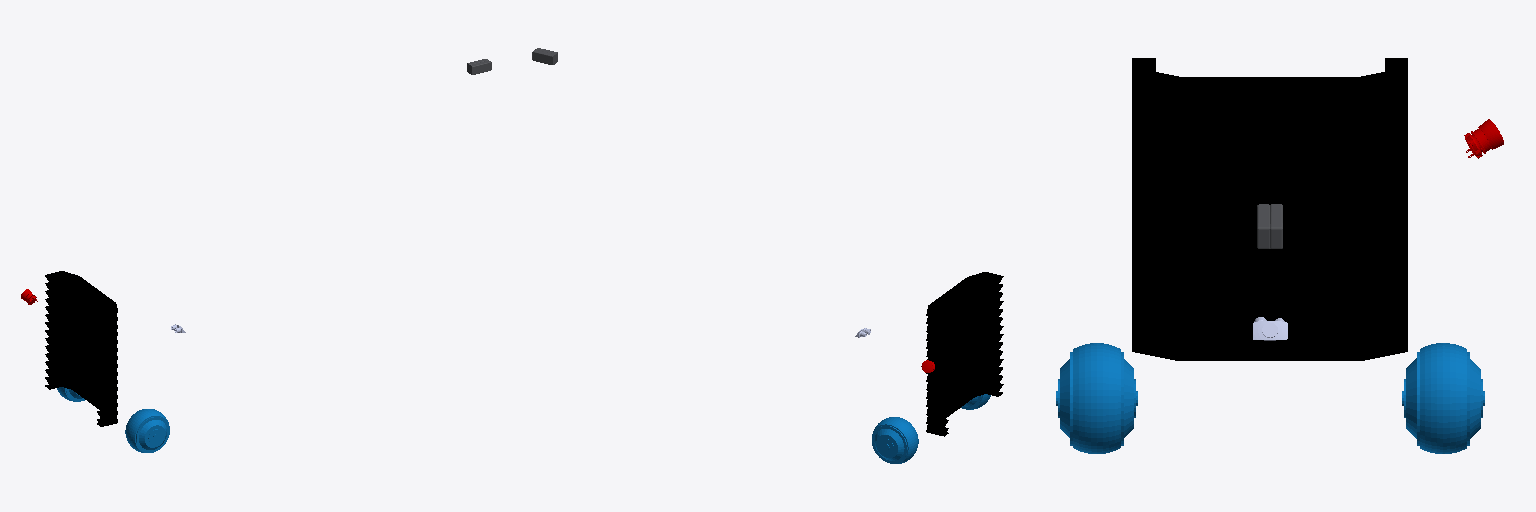
robot.urdf — fetch:
<robot name="fetch">
  <link name="base_link">
    <inertial>
      <origin rpy="0 0 0" xyz="-0.0036 0.0 0.0014" />
      <mass value="70.1294" />
      <inertia ixx="1.225" ixy="0.0099" ixz="0.0062" iyy="1.2853" iyz="-0.0034" izz="0.987" />
    </inertial>
    <visual>
      <origin rpy="0 0 0" xyz="0 0 0" />
      <geometry>
        <mesh filename="../meshes/base_link.dae" />
      </geometry>
      <material name="">
        <color rgba="0.356 0.361 0.376 1" />
      </material>
    </visual>
    <collision>
      <origin rpy="0 0 0" xyz="0 0 0" />
      <geometry>
        <mesh filename="../meshes/base_link_collision.obj" />
      </geometry>
    </collision>
  </link>
  <link name="r_wheel_link">
    <inertial>
      <origin rpy="0 0 0" xyz="0 0 0" />
      <mass value="4.3542" />
      <inertia ixx="0.0045" ixy="0" ixz="0" iyy="0.005" iyz="0" izz="0.0045" />
    </inertial>
    <visual>
      <origin rpy="0 0 0" xyz="0 0 0" />
      <geometry>
        <mesh filename="../meshes/r_wheel_link.obj" />
      </geometry>
      <material name="">
        <color rgba="0.086 0.506 0.767 1" />
      </material>
    </visual>
    <collision>
      <origin rpy="0 0 0" xyz="0 0 0" />
      <geometry>
        <mesh filename="../meshes/r_wheel_link_collision.obj" />
      </geometry>
    </collision>
  </link>
  <joint name="r_wheel_joint" type="continuous">
    <origin rpy="-6.123E-17 0 0" xyz="0.0012914 -0.18738 0.055325" />
    <parent link="base_link" />
    <child link="r_wheel_link" />
    <axis xyz="0 1 0" />
  <limit effort="8.85" velocity="17.4" /></joint>
  <link name="l_wheel_link">
    <inertial>
      <origin rpy="0 0 0" xyz="0 0 0" />
      <mass value="4.3542" />
      <inertia ixx="0.0045" ixy="0" ixz="0" iyy="0.005" iyz="0" izz="0.0045" />
    </inertial>
    <visual>
      <origin rpy="0 0 0" xyz="0 0 0" />
      <geometry>
        <mesh filename="../meshes/l_wheel_link.obj" />
      </geometry>
      <material name="">
        <color rgba="0.086 0.506 0.767 1" />
      </material>
    </visual>
    <collision>
      <origin rpy="0 0 0" xyz="0 0 0" />
      <geometry>
        <mesh filename="../meshes/l_wheel_link_collision.obj" />
      </geometry>
    </collision>
  </link>
  <joint name="l_wheel_joint" type="continuous">
    <origin rpy="-6.123E-17 0 0" xyz="0.0012914 0.18738 0.055325" />
    <parent link="base_link" />
    <child link="l_wheel_link" />
    <axis xyz="0 1 0" />
  <limit effort="8.85" velocity="17.4" /></joint>
  <link name="torso_lift_link">
    <inertial>
      <origin rpy="0 0 0" xyz="-0.0013 -0.0009 0.2935" />
      <mass value="10.7796" />
      <inertia ixx="0.3354" ixy="0.0" ixz="-0.0162" iyy="0.3354" iyz="-0.0006" izz="0.0954" />
    </inertial>
    <visual>
      <origin rpy="0 0 0" xyz="0 0 0" />
      <geometry>
        <mesh filename="../meshes/torso_lift_link.dae" />
      </geometry>
      <material name="">
        <color rgba="1 1 1 1" />
      </material>
    </visual>
    <collision>
      <origin rpy="0 0 0" xyz="0 0 0" />
      <geometry>
        <mesh filename="../meshes/torso_lift_link_collision.obj" />
      </geometry>
    </collision>
  </link>
  <joint name="torso_lift_joint" type="prismatic">
    <origin rpy="-6.123E-17 0 0" xyz="-0.086875 0 0.37743" />
    <parent link="base_link" />
    <child link="torso_lift_link" />
    <axis xyz="0 0 1" />
    <limit effort="450.0" lower="0" upper="0.38615" velocity="0.1" />
  <dynamics damping="0" /></joint>
  <link name="head_pan_link">
    <inertial>
      <origin rpy="0 0 0" xyz="0.0321 0.0161 0.0390" />
      <mass value="2.2556" />
      <inertia ixx="0.0129" ixy="0.0002" ixz="0.0007" iyy="0.0095" iyz="-0.0" izz="0.0184" />
    </inertial>
    <visual>
      <origin rpy="0 0 0" xyz="0 0 0" />
      <geometry>
        <mesh filename="../meshes/head_pan_link.dae" />
      </geometry>
      <material name="">
        <color rgba="0.356 0.361 0.376 1" />
      </material>
    </visual>
    <collision>
      <origin rpy="0 0 0" xyz="0 0 0" />
      <geometry>
        <mesh filename="../meshes/head_pan_link_collision.obj" />
      </geometry>
    </collision>
  </link>
  <joint name="head_pan_joint" type="revolute">
    <origin rpy="0 0 0" xyz="0.053125 0 0.603001417713939" />
    <parent link="torso_lift_link" />
    <child link="head_pan_link" />
    <axis xyz="0 0 1" />
  <limit effort="0.32" lower="-1.57" upper="1.57" velocity="1.57" /></joint>
  <link name="head_tilt_link">
    <inertial>
      <origin rpy="0 0 0" xyz="0.0081 0.0025 0.0113" />
      <mass value="0.9087" />
      <inertia ixx="0.0061" ixy="-0.0" ixz="0.0002" iyy="0.0014" iyz="-0.0001" izz="0.0061" />
    </inertial>
    <visual>
      <origin rpy="0 0 0" xyz="0 0 0" />
      <geometry>
        <mesh filename="../meshes/head_tilt_link.dae" />
      </geometry>
      <material name="">
        <color rgba="0.086 0.506 0.767 1" />
      </material>
    </visual>
    <collision>
      <origin rpy="0 0 0" xyz="0 0 0" />
      <geometry>
        <mesh filename="../meshes/head_tilt_link_collision.obj" />
      </geometry>
    </collision>
  </link>
  <joint name="head_tilt_joint" type="revolute">
    <origin rpy="0 0 0" xyz="0.14253 0 0.057999" />
    <parent link="head_pan_link" />
    <child link="head_tilt_link" />
    <axis xyz="0 1 0" />
    <limit effort="0.68" lower="-0.76" upper="1.45" velocity="1.57" />
  </joint>
  <link name="shoulder_pan_link">
    <inertial>
      <origin rpy="0 0 0" xyz="0.0927 -0.0056 0.0564" />
      <mass value="2.5587" />
      <inertia ixx="0.0043" ixy="-0.0001" ixz="0.001" iyy="0.0087" iyz="-0.0001" izz="0.0087" />
    </inertial>
    <visual>
      <origin rpy="0 0 0" xyz="0 0 0" />
      <geometry>
        <mesh filename="../meshes/shoulder_pan_link.dae" />
      </geometry>
      <material name="">
        <color rgba="1 1 1 1" />
      </material>
    </visual>
    <collision>
      <origin rpy="0 0 0" xyz="0 0 0" />
      <geometry>
        <mesh filename="../meshes/shoulder_pan_link_collision.obj" />
      </geometry>
    </collision>
  </link>
  <joint name="shoulder_pan_joint" type="revolute">
    <origin rpy="0 0 0" xyz="0.119525 0 0.34858" />
    <parent link="torso_lift_link" />
    <child link="shoulder_pan_link" />
    <axis xyz="0 0 1" />
    <dynamics damping="0" />
    <limit effort="33.82" lower="-1.6056" upper="1.6056" velocity="1.256" />
  </joint>
  <link name="shoulder_lift_link">
    <inertial>
      <origin rpy="0 0 0" xyz="0.1432 0.0072 -0.0001" />
      <mass value="2.6615" />
      <inertia ixx="0.0028" ixy="-0.0021" ixz="-0.0" iyy="0.0111" iyz="-0.0" izz="0.0112" />
    </inertial>
    <visual>
      <origin rpy="0 0 0" xyz="0 0 0" />
      <geometry>
        <mesh filename="../meshes/shoulder_lift_link.dae" />
      </geometry>
      <material name="">
        <color rgba="0.086 0.506 0.767 1" />
      </material>
    </visual>
    <collision>
      <origin rpy="0 0 0" xyz="0 0 0" />
      <geometry>
        <mesh filename="../meshes/shoulder_lift_link_collision.obj" />
      </geometry>
    </collision>
  </link>
  <joint name="shoulder_lift_joint" type="revolute">
    <origin rpy="0 0 0" xyz="0.117 0 0.0599999999999999" />
    <parent link="shoulder_pan_link" />
    <child link="shoulder_lift_link" />
    <axis xyz="0 1 0" />
    <dynamics damping="0" />
    <limit effort="131.76" lower="-1.221" upper="1.518" velocity="1.454" />
  </joint>
  <link name="upperarm_roll_link">
    <inertial>
      <origin rpy="0 0 0" xyz="0.1165 0.0014 0.0000" />
      <mass value="2.3311" />
      <inertia ixx="0.0019" ixy="-0.0001" ixz="0.0" iyy="0.0045" iyz="0.0" izz="0.0047" />
    </inertial>
    <visual>
      <origin rpy="0 0 0" xyz="0 0 0" />
      <geometry>
        <mesh filename="../meshes/upperarm_roll_link.dae" />
      </geometry>
      <material name="">
        <color rgba="1 1 1 1" />
      </material>
    </visual>
    <collision>
      <origin rpy="0 0 0" xyz="0 0 0" />
      <geometry>
        <mesh filename="../meshes/upperarm_roll_link_collision.obj" />
      </geometry>
    </collision>
  </link>
  <joint name="upperarm_roll_joint" type="continuous">
    <origin rpy="0 0 0" xyz="0.219 0 0" />
    <parent link="shoulder_lift_link" />
    <child link="upperarm_roll_link" />
    <axis xyz="1 0 0" />
    <dynamics damping="0" />
    <limit effort="76.94" velocity="1.571" />
  </joint>
  <link name="elbow_flex_link">
    <inertial>
      <origin rpy="0 0 0" xyz="0.1279 0.0073 0.0000" />
      <mass value="2.1299" />
      <inertia ixx="0.0024" ixy="-0.0016" ixz="0.0" iyy="0.0082" iyz="-0.0" izz="0.0084" />
    </inertial>
    <visual>
      <origin rpy="0 0 0" xyz="0 0 0" />
      <geometry>
        <mesh filename="../meshes/elbow_flex_link.dae" />
      </geometry>
      <material name="">
        <color rgba="0.086 0.506 0.767 1" />
      </material>
    </visual>
    <collision>
      <origin rpy="0 0 0" xyz="0 0 0" />
      <geometry>
        <mesh filename="../meshes/elbow_flex_link_collision.obj" />
      </geometry>
    </collision>
  </link>
  <joint name="elbow_flex_joint" type="revolute">
    <origin rpy="0 0 0" xyz="0.133 0 0" />
    <parent link="upperarm_roll_link" />
    <child link="elbow_flex_link" />
    <axis xyz="0 1 0" />
    <dynamics damping="0" />
    <limit effort="66.18" lower="-2.251" upper="2.251" velocity="1.521" />
  </joint>
  <link name="forearm_roll_link">
    <inertial>
      <origin rpy="0 0 0" xyz="0.1097 -0.0266 0.0000" />
      <mass value="1.6563" />
      <inertia ixx="0.0016" ixy="-0.0003" ixz="0.0" iyy="0.003" iyz="-0.0" izz="0.0035" />
    </inertial>
    <visual>
      <origin rpy="0 0 0" xyz="0 0 0" />
      <geometry>
        <mesh filename="../meshes/forearm_roll_link.dae" />
      </geometry>
      <material name="">
        <color rgba="1 1 1 1" />
      </material>
    </visual>
    <collision>
      <origin rpy="0 0 0" xyz="0 0 0" />
      <geometry>
        <mesh filename="../meshes/forearm_roll_link_collision.obj" />
      </geometry>
    </collision>
  </link>
  <joint name="forearm_roll_joint" type="continuous">
    <origin rpy="0 0 0" xyz="0.197 0 0" />
    <parent link="elbow_flex_link" />
    <child link="forearm_roll_link" />
    <axis xyz="1 0 0" />
    <dynamics damping="0" />
    <limit effort="29.35" velocity="1.571" />
  </joint>
  <link name="wrist_flex_link">
    <inertial>
      <origin rpy="0 0 0" xyz="0.0882 0.0009 -0.0001" />
      <mass value="1.725" />
      <inertia ixx="0.0018" ixy="-0.0001" ixz="-0.0" iyy="0.0042" iyz="0.0" izz="0.0042" />
    </inertial>
    <visual>
      <origin rpy="0 0 0" xyz="0 0 0" />
      <geometry>
        <mesh filename="../meshes/wrist_flex_link.dae" />
      </geometry>
      <material name="">
        <color rgba="0.086 0.506 0.767 1" />
      </material>
    </visual>
    <collision>
      <origin rpy="0 0 0" xyz="0 0 0" />
      <geometry>
        <mesh filename="../meshes/wrist_flex_link_collision.obj" />
      </geometry>
    </collision>
  </link>
  <joint name="wrist_flex_joint" type="revolute">
    <origin rpy="0 0 0" xyz="0.1245 0 0" />
    <parent link="forearm_roll_link" />
    <child link="wrist_flex_link" />
    <axis xyz="0 1 0" />
    <dynamics damping="0" />
    <limit effort="25.7" lower="-2.16" upper="2.16" velocity="2.268" />
  </joint>
  <link name="wrist_roll_link">
    <inertial>
      <origin rpy="0 0 0" xyz="0.0095 0.0004 -0.0002" />
      <mass value="0.1354" />
      <inertia ixx="0.0001" ixy="0.0" ixz="0.0" iyy="0.0001" iyz="0.0" izz="0.0001" />
    </inertial>
    <visual>
      <origin rpy="0 0 0" xyz="0 0 0" />
      <geometry>
        <mesh filename="../meshes/wrist_roll_link.dae" />
      </geometry>
      <material name="">
        <color rgba="1 1 1 1" />
      </material>
    </visual>
    <collision>
      <origin rpy="0 0 0" xyz="0 0 0" />
      <geometry>
        <mesh filename="../meshes/wrist_roll_link_collision.obj" />
      </geometry>
    </collision>
  </link>
  <joint name="wrist_roll_joint" type="continuous">
    <origin rpy="0 0 0" xyz="0.1385 0 0" />
    <parent link="wrist_flex_link" />
    <child link="wrist_roll_link" />
    <axis xyz="1 0 0" />
    <limit effort="7.36" velocity="2.268" />
    <dynamics damping="0" />
  </joint>
  <link name="gripper_link">
    <inertial>
      <origin rpy="0 0 0" xyz="-0.0900 -0.0001 -0.0017" />
      <mass value="1.5175" />
      <inertia ixx="0.0013" ixy="-0.0" ixz="0.0" iyy="0.0019" iyz="-0.0" izz="0.0024" />
    </inertial>
    <visual>
      <origin rpy="0 0 0" xyz="0 0 0" />
      <geometry>
        <mesh filename="../meshes/gripper_link.dae" />
      </geometry>
    </visual>
    <collision>
      <origin rpy="0 0 0" xyz="0 0 0" />
      <geometry>
        <mesh filename="../meshes/gripper_link.obj" />
      </geometry>
    </collision>
  </link>
  <joint name="gripper_axis" type="fixed">
    <origin rpy="0 0 0" xyz="0.16645 0 0" />
    <parent link="wrist_roll_link" />
    <child link="gripper_link" />
    <axis xyz="0 1 0" />
  </joint>
  <link name="r_gripper_finger_link">
    <inertial>
      <origin rpy="0 0 0" xyz="-0.01 0 0" />
      <mass value="0.0798" />
      <inertia ixx="0.002" ixy="0" ixz="0" iyy="0" iyz="0" izz="0" />
    </inertial>
    <visual>
      <origin rpy="0 0 0" xyz="0 0.101425 0" />
      <geometry>
        <mesh filename="../meshes/r_gripper_finger_link.obj" />
      </geometry>
      <material name="">
        <color rgba="0.356 0.361 0.376 1" />
      </material>
    </visual>
    <collision>
      <origin rpy="0 0 0" xyz="0 0.101425 0" />
      <geometry>
        <mesh filename="../meshes/r_gripper_finger_link.obj" />
      </geometry>
    </collision>
  </link>
  <joint name="r_gripper_finger_joint" type="prismatic">
    <origin rpy="0 0 0" xyz="0 0.015425 0" />
    <parent link="gripper_link" />
    <child link="r_gripper_finger_link" />
    <axis xyz="0 1 0" />
  <limit effort="60" lower="0.0" upper="0.05" velocity="0.05" /><dynamics damping="0" /></joint>
  <link name="l_gripper_finger_link">
    <inertial>
      <origin rpy="0 0 0" xyz="-0.01 0 0" />
      <mass value="0.0798" />
      <inertia ixx="0.002" ixy="0" ixz="0" iyy="0" iyz="0" izz="0" />
    </inertial>
    <visual>
      <origin rpy="0 0 0" xyz="0 -0.101425 0" />
      <geometry>
        <mesh filename="../meshes/l_gripper_finger_link.obj" />
      </geometry>
      <material name="">
        <color rgba="0.356 0.361 0.376 1" />
      </material>
    </visual>
    <collision>
      <origin rpy="0 0 0" xyz="0 -0.101425 0" />
      <geometry>
        <mesh filename="../meshes/l_gripper_finger_link.obj" />
      </geometry>
    </collision>
  </link>
  <joint name="l_gripper_finger_joint" type="prismatic">
    <origin rpy="0 0 0" xyz="0 -0.015425 0" />
    <parent link="gripper_link" />
    <child link="l_gripper_finger_link" />
    <axis xyz="0 -1 0" />
  <limit effort="60" lower="0.0" upper="0.05" velocity="0.05" /><dynamics damping="0" /></joint>
  <link name="bellows_link">
    <inertial>
      <origin rpy="0 0 0" xyz="0.0191320000286228 -1.67219873481315E-16 -0.134861625443387" />
      <mass value="0.169374038216602" />
      <inertia ixx="0.00331159128762117" ixy="-8.9230964321455E-18" ixz="-5.38622201018293E-08" iyy="0.00174447292786627" iyz="-8.06964979976371E-17" izz="0.00169417568121457" />
    </inertial>
    <visual>
      <origin rpy="0 0 0" xyz="0 0 0" />
      <geometry>
        <mesh filename="../meshes/bellows_link.obj" />
      </geometry>
      <material name="">
        <color rgba="0 0 0 1" />
      </material>
    </visual>
    <collision>
      <origin rpy="0 0 0" xyz="0 0 0" />
      <geometry>
        <mesh filename="../meshes/bellows_link_collision.obj" />
      </geometry>
    </collision>
  </link>
  <joint name="bellows_joint" type="prismatic">
    <origin rpy="0 0 0" xyz="0 0 0" />
    <parent link="torso_lift_link" />
    <child link="bellows_link" />
    <axis xyz="0 0 -1" />
  <limit effort="5.0" lower="0" upper="0.4" velocity="0.1" /></joint>
  <link name="bellows_link2">
    <inertial>
      <origin rpy="0 0 0" xyz="0.0191320000286228 -1.67219873481315E-16 -0.134861625443387" />
      <mass value="0.169374038216602" />
      <inertia ixx="0.00331159128762117" ixy="-8.9230964321455E-18" ixz="-5.38622201018293E-08" iyy="0.00174447292786627" iyz="-8.06964979976371E-17" izz="0.00169417568121457" />
    </inertial>
    <visual>
      <origin rpy="0 0 0" xyz="0 0 0" />
      <geometry>
        <mesh filename="../meshes/bellows_link.obj" />
      </geometry>
      <material name="">
        <color rgba="0 0 0 1" />
      </material>
    </visual>
    <collision>
      <origin rpy="0 0 0" xyz="0 0 0" />
      <geometry>
        <mesh filename="../meshes/bellows_link_collision.obj" />
      </geometry>
    </collision>
  </link>
  <joint name="bellows_joint2" type="fixed">
    <origin rpy="0 0 0" xyz="0 0 0" />
    <parent link="torso_lift_link" />
    <child link="bellows_link2" />
  </joint>
  <link name="estop_link">
    <inertial>
      <origin rpy="0 0 0" xyz="0.002434512737072 -0.00330608315239905 0.00665139196650039" />
      <mass value="0.00196130439134723" />
      <inertia ixx="3.02810026604417E-07" ixy="-1.5862023118056E-08" ixz="3.16561396557437E-08" iyy="2.93322917127605E-07" iyz="-4.28833522751273E-08" izz="2.28513272627183E-07" />
    </inertial>
    <visual>
      <origin rpy="0 0 0" xyz="0 0 0" />
      <geometry>
        <mesh filename="../meshes/estop_link.obj" />
      </geometry>
      <material name="">
        <color rgba="0.8 0 0 1" />
      </material>
    </visual>
    <collision>
      <origin rpy="0 0 0" xyz="0 0 0" />
      <geometry>
        <mesh filename="../meshes/estop_link.obj" />
      </geometry>
    </collision>
  </link>
  <joint name="estop_joint" type="fixed">
    <origin rpy="1.5708 0 0" xyz="-0.12465 0.23892 0.31127" />
    <parent link="base_link" />
    <child link="estop_link" />
    <axis xyz="0 0 0" />
  </joint>
  <link name="laser_link">
    <inertial>
      <origin rpy="0 0 0" xyz="-0.0306228970175641 0.0007091682908278 0.0551974119471302" />
      <mass value="0.00833634573995571" />
      <inertia ixx="1.01866461240801E-06" ixy="-5.88447626567756E-08" ixz="7.83857244757914E-08" iyy="5.10039589974707E-07" iyz="-7.12664289617235E-09" izz="1.28270671527309E-06" />
    </inertial>
    <visual>
      <origin rpy="0 0 0" xyz="0 0 0" />
      <geometry>
        <mesh filename="../meshes/laser_link.obj" />
      </geometry>
      <material name="">
        <color rgba="0.792156862745098 0.819607843137255 0.933333333333333 1" />
      </material>
    </visual>
    <collision>
      <origin rpy="0 0 0" xyz="0 0 0" />
      <geometry>
        <mesh filename="../meshes/laser_link.obj" />
      </geometry>
    </collision>
  </link>
  <joint name="laser_joint" type="fixed">
    <origin rpy="3.14159265359 0 0" xyz="0.235 0 0.2878" />
    <parent link="base_link" />
    <child link="laser_link" />
    <axis xyz="0 0 0" />
  </joint>
  <link name="torso_fixed_link">
    <inertial>
      <origin rpy="0 0 0" xyz="-0.0722 0.0057 0.2656" />
      <mass value="13.2775" />
      <inertia ixx="0.3861" ixy="0.0015" ixz="-0.0102" iyy="0.3388" iyz="0.0117" izz="0.1018" />
    </inertial>
    <visual>
      <origin rpy="0 0 0" xyz="0 0 0" />
      <geometry>
        <mesh filename="../meshes/torso_fixed_link.dae" />
      </geometry>
      <material name="">
        <color rgba="0.086 0.506 0.767 1" />
      </material>
    </visual>
    <collision>
      <origin rpy="0 0 0" xyz="0 0 0" />
      <geometry>
        <mesh filename="../meshes/torso_fixed_link.obj" />
      </geometry>
    </collision>
  </link>
  <joint name="torso_fixed_joint" type="fixed">
    <origin rpy="-6.12303176911189E-17 0 0" xyz="-0.086875 0 0.377425" />
    <parent link="base_link" />
    <child link="torso_fixed_link" />
    <axis xyz="0 1 0" />
  </joint>
  <link name="head_camera_link" />
  <joint name="head_camera_joint" type="fixed">
    <origin rpy="0 0 0" xyz="0.055 0 0.0225" />
    <parent link="head_tilt_link" />
    <child link="head_camera_link" />
  </joint>
  <link name="head_camera_rgb_frame" />
  <joint name="head_camera_rgb_joint" type="fixed">
    <origin rpy="0 0 0" xyz="0 0.02 0" />
    <parent link="head_camera_link" />
    <child link="head_camera_rgb_frame" />
  </joint>
  <link name="head_camera_rgb_optical_frame" />
  <joint name="head_camera_rgb_optical_joint" type="fixed">
    <origin rpy="-1.57079632679 0 -1.57079632679" xyz="0 0 0" />
    <parent link="head_camera_rgb_frame" />
    <child link="head_camera_rgb_optical_frame" />
  </joint>
  <link name="head_camera_depth_frame" />
  <joint name="head_camera_depth_joint" type="fixed">
    <origin rpy="0 0 0" xyz="0 0.045 0" />
    <parent link="head_camera_link" />
    <child link="head_camera_depth_frame" />
  </joint>
  <link name="head_camera_depth_optical_frame" />
  <joint name="head_camera_depth_optical_joint" type="fixed">
    <origin rpy="-1.57079632679 0 -1.57079632679" xyz="0 0 0" />
    <parent link="head_camera_depth_frame" />
    <child link="head_camera_depth_optical_frame" />
  </joint>
</robot>

--- What the picture shows (computed from the rendered views, not written in the file) ---
3 views of the same robot in one strip: view 1: azimuth 30°, elevation 25°; view 2: azimuth 150°, elevation 25°; view 3: azimuth 270°, elevation 25° (orthographic).
Model fetch with 26 links and 25 joints (6 revolute, 5 continuous, 4 prismatic, 10 fixed), rooted at base_link, posed every joint at zero.
Visible links, largest first — view 1: bellows_link, r_wheel_link; view 2: bellows_link, l_wheel_link; view 3: bellows_link, l_wheel_link, r_wheel_link, estop_link, laser_link, r_gripper_finger_link, l_gripper_finger_link.
Link boxes in pixels (x1,y1,x2,y2): bellows_link: (45,271,117,426); r_wheel_link: (125,409,169,452); bellows_link: (926,272,1003,436); l_wheel_link: (872,417,918,463); bellows_link: (1132,58,1407,360); l_wheel_link: (1402,343,1484,453); r_wheel_link: (1056,343,1137,453); estop_link: (1464,119,1503,158); laser_link: (1253,317,1287,340); r_gripper_finger_link: (1270,204,1282,248); l_gripper_finger_link: (1257,204,1269,248).
Size in the robot's own frame: 1.3 by 0.4855 by 0.8041 metres.
8 mesh visuals loaded from 20 distinct referenced files (7 OBJ); not drawn: 13 (reference not matched to a file when rendering).